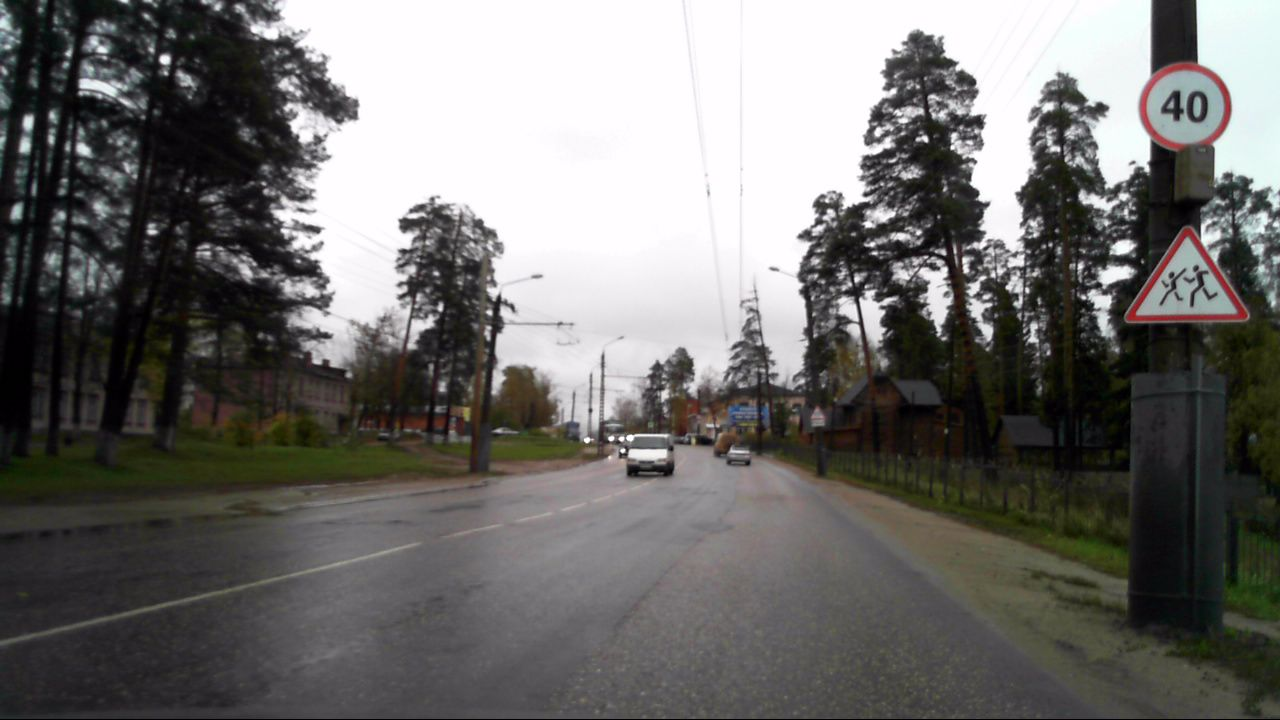speed_warning_40: (1137, 59, 1234, 156)
